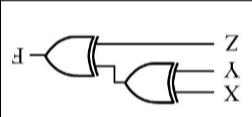xor: (121, 58, 181, 105), (40, 32, 101, 78)
